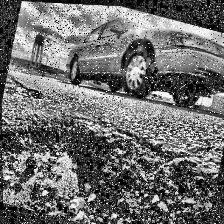pothole: (2, 96, 222, 224)
